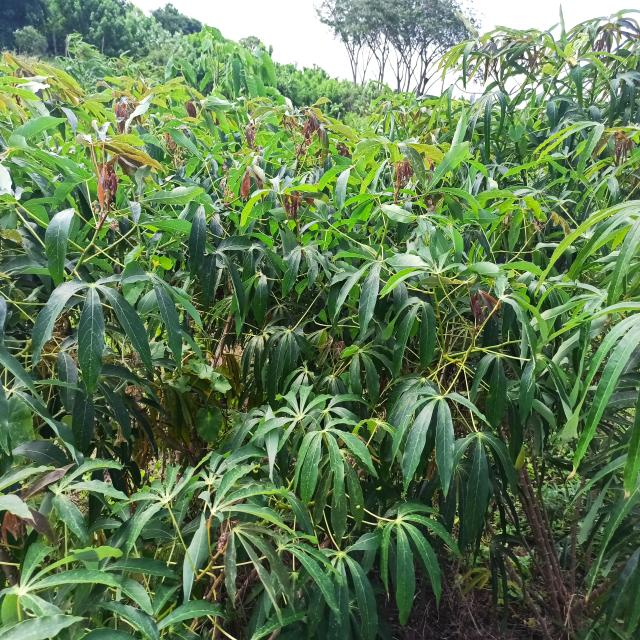Mosca: (75, 362, 90, 382), (88, 523, 102, 544), (279, 214, 293, 235), (347, 499, 365, 515), (446, 249, 460, 265), (593, 328, 604, 348), (624, 305, 636, 321), (373, 478, 385, 494), (411, 310, 420, 331), (236, 262, 245, 277), (424, 456, 436, 463)
